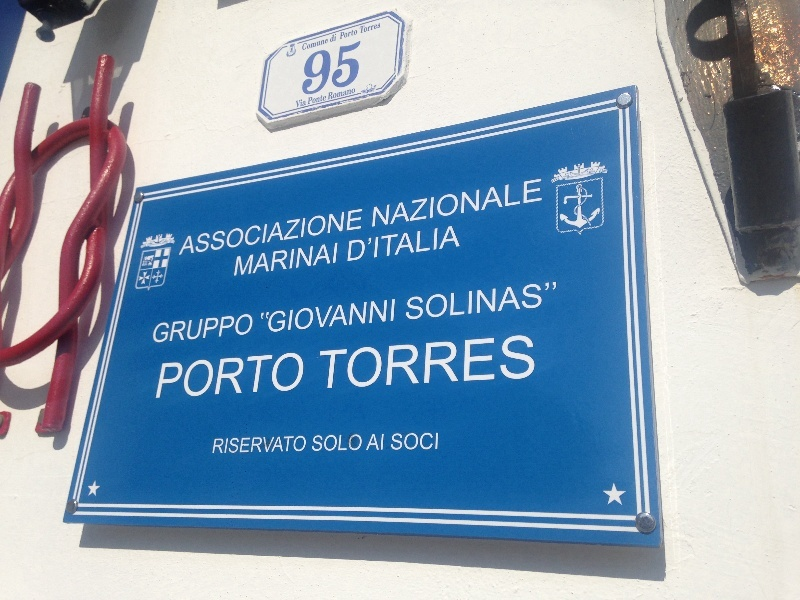text: (321, 333, 336, 392), (337, 333, 352, 392), (353, 333, 368, 392), (369, 333, 384, 392), (385, 333, 400, 392), (401, 333, 416, 392), (417, 333, 432, 392), (433, 333, 448, 392), (449, 333, 464, 392), (465, 333, 480, 392), (481, 333, 496, 392), (497, 333, 512, 392), (513, 333, 528, 392), (305, 40, 320, 97), (321, 40, 336, 97), (337, 40, 352, 97), (385, 176, 400, 231), (401, 176, 416, 231), (417, 176, 432, 231), (433, 176, 448, 231), (449, 176, 464, 231), (465, 176, 480, 231), (481, 176, 496, 231), (497, 176, 512, 231), (513, 176, 528, 231), (529, 176, 544, 231), (193, 207, 208, 259), (209, 207, 224, 259), (225, 207, 240, 259), (241, 207, 256, 259), (257, 207, 272, 259), (273, 207, 288, 259), (289, 207, 304, 259), (305, 207, 320, 259), (321, 207, 336, 259), (337, 207, 352, 259), (177, 350, 192, 401), (193, 350, 208, 401), (209, 350, 224, 401), (225, 350, 240, 401), (241, 350, 256, 401), (257, 350, 272, 401), (273, 350, 288, 401), (289, 350, 304, 401), (162, 350, 176, 401), (372, 176, 384, 231), (417, 280, 432, 322), (433, 280, 448, 322), (449, 280, 464, 322), (465, 280, 480, 322), (481, 280, 496, 322), (497, 280, 512, 322), (513, 280, 528, 322), (529, 280, 544, 322), (353, 225, 368, 264), (369, 225, 384, 264), (385, 225, 400, 264), (401, 225, 416, 264), (417, 225, 432, 264), (433, 225, 448, 264), (353, 207, 364, 259), (273, 297, 288, 335), (289, 297, 304, 335), (305, 297, 320, 335), (321, 297, 336, 335), (337, 297, 352, 335), (353, 297, 368, 335), (369, 297, 384, 335), (241, 242, 256, 279), (257, 242, 272, 279), (273, 242, 288, 279), (289, 242, 304, 279), (305, 242, 320, 279), (321, 242, 336, 279), (449, 225, 463, 264), (545, 280, 558, 322), (353, 40, 362, 97), (161, 313, 176, 345), (177, 313, 192, 345), (193, 313, 208, 345), (209, 313, 224, 345), (225, 313, 240, 345), (529, 333, 537, 392), (260, 297, 272, 335), (385, 297, 397, 335), (241, 313, 254, 345), (407, 280, 416, 322), (185, 207, 192, 259), (225, 434, 240, 456), (241, 434, 256, 456), (257, 434, 272, 456), (273, 434, 288, 456), (289, 434, 304, 456), (401, 432, 416, 452), (417, 432, 432, 452), (321, 434, 336, 453), (337, 434, 352, 453), (370, 433, 384, 453), (213, 434, 224, 456), (153, 313, 160, 345), (305, 38, 320, 52), (353, 434, 364, 453), (390, 432, 400, 452), (337, 88, 352, 101), (235, 242, 240, 279), (369, 22, 381, 35), (348, 225, 352, 264), (305, 350, 308, 401), (340, 29, 352, 41), (308, 94, 320, 106), (433, 432, 440, 452), (313, 434, 320, 453), (318, 333, 320, 392), (359, 22, 368, 35), (321, 38, 329, 52), (337, 242, 340, 279), (328, 88, 336, 101), (305, 434, 309, 456), (295, 99, 304, 108), (321, 94, 327, 106), (330, 33, 336, 44), (291, 48, 304, 53), (353, 29, 358, 41), (353, 88, 356, 101), (302, 38, 304, 52), (385, 433, 386, 453), (305, 99, 306, 108)
